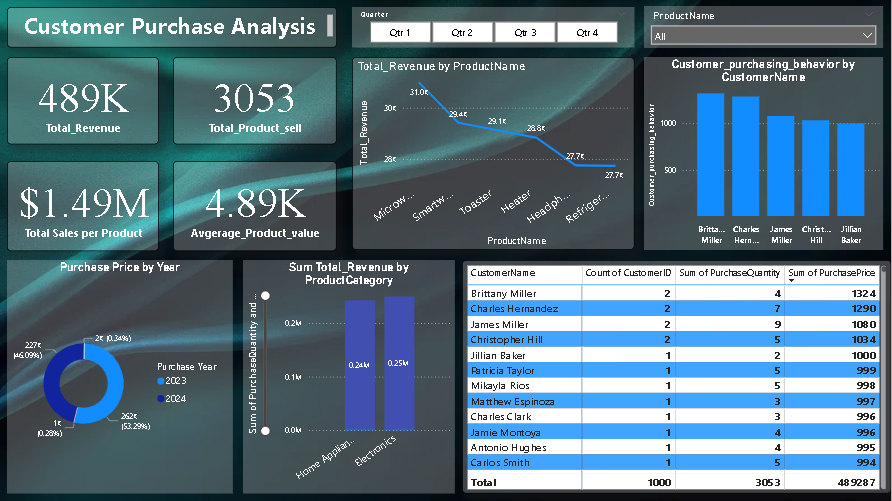

This screenshot's page, from the dashboard's own definition file:
{"tool":"powerbi","page":{"name":"Page 1","canvas":[1280,720],"ordinal":0},"visuals":[{"type":"donutChart","title":"Purchase Price by Year","fields":{"Category":["customer_purchase_data (1).PurchaseDate.Variation.Date Hierarchy.Year","customer_purchase_data (1).PurchaseDate.Variation.Date Hierarchy.Quarter","customer_purchase_data (1).PurchaseDate.Variation.Date Hierarchy.Month","customer_purchase_data (1).PurchaseDate.Variation.Date Hierarchy.Day"],"Y":["Sum(customer_purchase_data.PurchaseQuantity)","Sum(customer_purchase_data.PurchasePrice)"]},"box":[15.6,372.8,323.1,334.5],"z":0},{"type":"pivotTable","fields":{"Values":["CountNonNull(customer_purchase_data.CustomerID)","Sum(customer_purchase_data.PurchaseQuantity)","Sum(customer_purchase_data.PurchasePrice)"],"Rows":["customer_purchase_data.CustomerName"]},"box":[666.1,372.8,613.7,334.5],"z":1000},{"type":"columnChart","title":"Sum Total_Revenue by ProductCategory","fields":{"Category":["customer_purchase_data.ProductCategory"],"Y":["Sum(customer_purchase_data.PurchaseQuantity)","customer_purchase_data.Total_Revenue"]},"box":[352.9,372.8,303.3,334.5],"z":2000},{"type":"card","fields":{"Values":["customer_purchase_data.Total_Revenue"]},"box":[15.6,83.6,216.9,124.7],"z":3000},{"type":"card","fields":{"Values":["customer_purchase_data.Total_Product_sell"]},"box":[253.7,83.6,233.9,124.7],"z":4000},{"type":"card","fields":{"Values":["customer_purchase_data.Total Sales per Product"]},"box":[15.6,231,216.9,129],"z":5000},{"type":"card","fields":{"Values":["customer_purchase_data.Avgerage_Product_value"]},"box":[253.7,231,233.9,129],"z":6000},{"type":"lineChart","fields":{"Y":["customer_purchase_data.Total_Revenue"],"Category":["customer_purchase_data.ProductName"]},"box":[508.8,83.6,403.9,276.4],"z":7000},{"type":"textbox","box":[15.6,11.3,472,58.1],"z":8000},{"type":"slicer","fields":{"Values":["customer_purchase_data.ProductName"]},"box":[926.9,9.9,341.6,59.5],"z":9000},{"type":"slicer","fields":{"Values":["customer_purchase_data.PurchaseDate.Variation.Date Hierarchy.Quarter"]},"box":[508.8,11.3,403.9,58.1],"z":10000},{"type":"lineClusteredColumnComboChart","fields":{"Category":["customer_purchase_data.CustomerName"],"Y":["customer_purchase_data.Customer_purchasing_behavior"]},"box":[926.9,83.6,341.6,276.4],"z":11000}]}

Visuals, with their boxes in screenshot pixels (x1, y1, x2, y2), scaled from the page's 1280x720 canvas onto the 892x501 screenshot:
"Purchase Price by Year" donutChart: crop(11, 259, 236, 492)
pivotTable - CountNonNull(customer_purchase_data.CustomerID) x Sum(customer_purchase_data.PurchaseQuantity): crop(464, 259, 891, 492)
"Sum Total_Revenue by ProductCategory" columnChart: crop(246, 259, 457, 492)
card - customer_purchase_data.Total_Revenue: crop(11, 58, 162, 145)
card - customer_purchase_data.Total_Product_sell: crop(177, 58, 340, 145)
card - customer_purchase_data.Total Sales per Product: crop(11, 161, 162, 250)
card - customer_purchase_data.Avgerage_Product_value: crop(177, 161, 340, 250)
lineChart - customer_purchase_data.Total_Revenue x customer_purchase_data.ProductName: crop(355, 58, 636, 250)
textbox: crop(11, 8, 340, 48)
slicer - customer_purchase_data.ProductName: crop(646, 7, 884, 48)
slicer - customer_purchase_data.PurchaseDate.Variation.Date Hierarchy.Quarter: crop(355, 8, 636, 48)
lineClusteredColumnComboChart - customer_purchase_data.CustomerName x customer_purchase_data.Customer_purchasing_behavior: crop(646, 58, 884, 250)
